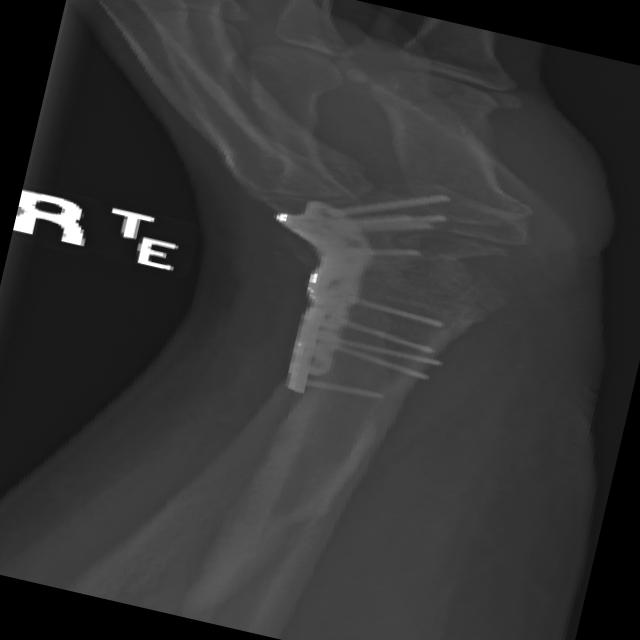fingers positive: (318, 154, 556, 382)
